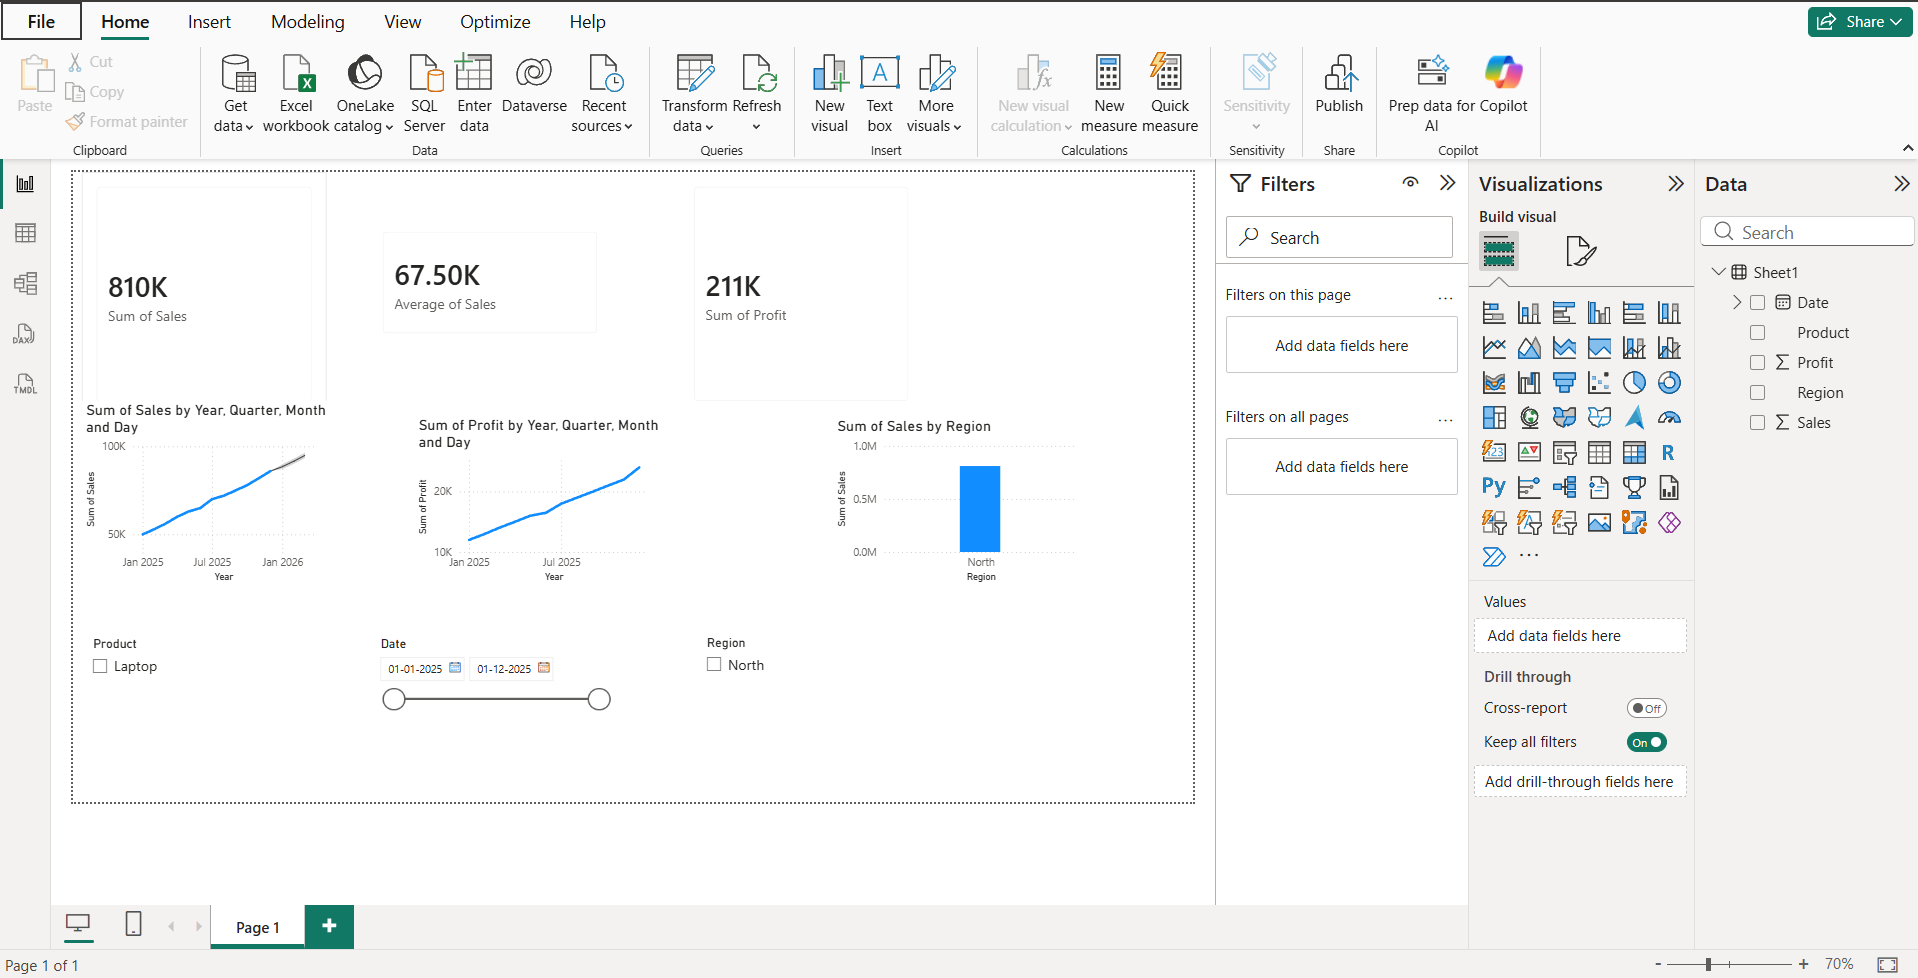

The page's visual inventory and layout, read from the dashboard file:
{"tool":"powerbi","page":{"name":"Page 1","canvas":[1280,720],"ordinal":0},"visuals":[{"type":"cardVisual","fields":{"Data":["Sum(Sheet1.Sales)"]},"box":[10,0,280,280],"z":0},{"type":"cardVisual","fields":{"Data":["Sum(Sheet1.Profit)"]},"box":[693,0,279.9,279.9],"z":1},{"type":"cardVisual","fields":{"Data":["Avg(Sheet1.Sales)"]},"box":[337.6,50.8,279.9,150.9],"z":2},{"type":"lineChart","fields":{"Category":["Sheet1.Date.Variation.Date Hierarchy.Year","Sheet1.Date.Variation.Date Hierarchy.Quarter","Sheet1.Date.Variation.Date Hierarchy.Month","Sheet1.Date.Variation.Date Hierarchy.Day"],"Y":["Sum(Sheet1.Sales)"]},"box":[10,261.4,284.3,212.9],"z":3},{"type":"lineChart","fields":{"Category":["Sheet1.Date.Variation.Date Hierarchy.Year","Sheet1.Date.Variation.Date Hierarchy.Quarter","Sheet1.Date.Variation.Date Hierarchy.Month","Sheet1.Date.Variation.Date Hierarchy.Day"],"Y":["Sum(Sheet1.Profit)"]},"box":[390,278.6,284.3,195.7],"z":4},{"type":"clusteredColumnChart","fields":{"Category":["Sheet1.Region"],"Y":["Sum(Sheet1.Sales)"]},"box":[868.6,280,284.3,194.3],"z":5},{"type":"slicer","fields":{"Values":["Sheet1.Region"]},"box":[711.4,524.3,284.3,195.7],"z":6},{"type":"slicer","fields":{"Values":["Sheet1.Product"]},"box":[10,525.7,284.3,194.3],"z":7},{"type":"slicer","fields":{"Values":["Sheet1.Date"]},"box":[338,526,284,194],"z":8}]}

Visuals, with their boxes on the page's 1280x720 design canvas (x1, y1, x2, y2). These are canvas units, not pixel positions in the 1918x978 screenshot, which may show the page scaled, cropped or inside an application window:
cardVisual - Sum(Sheet1.Sales): (10, 0, 290, 280)
cardVisual - Sum(Sheet1.Profit): (693, 0, 973, 280)
cardVisual - Avg(Sheet1.Sales): (338, 51, 618, 202)
lineChart - Sheet1.Date.Variation.Date Hierarchy.Year x Sheet1.Date.Variation.Date Hierarchy.Quarter: (10, 261, 294, 474)
lineChart - Sheet1.Date.Variation.Date Hierarchy.Year x Sheet1.Date.Variation.Date Hierarchy.Quarter: (390, 279, 674, 474)
clusteredColumnChart - Sheet1.Region x Sum(Sheet1.Sales): (869, 280, 1153, 474)
slicer - Sheet1.Region: (711, 524, 996, 720)
slicer - Sheet1.Product: (10, 526, 294, 720)
slicer - Sheet1.Date: (338, 526, 622, 720)
